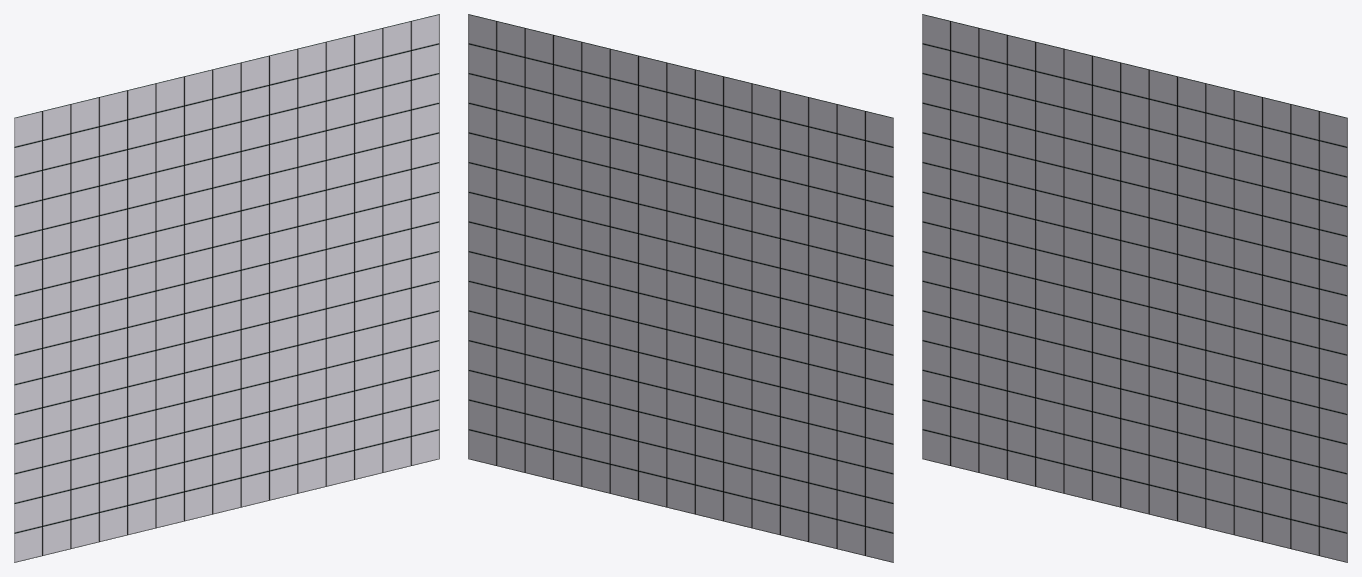
Rendered from tile15x15.obj.
3 renders of one model, left to right at view 1: azimuth 30°, elevation 25°; view 2: azimuth 150°, elevation 25°; view 3: azimuth 330°, elevation 25°, orthographic.
Visible parts, largest first — view 1: 平面; view 2: 平面; view 3: 平面.
Part boxes in pixels (x1=…): 平面: x1=14, y1=14, x2=439, y2=562; 平面: x1=468, y1=14, x2=893, y2=562; 平面: x1=922, y1=14, x2=1347, y2=562.
Bounding box in the file's own units: 30 × 30 × 2e-06.
